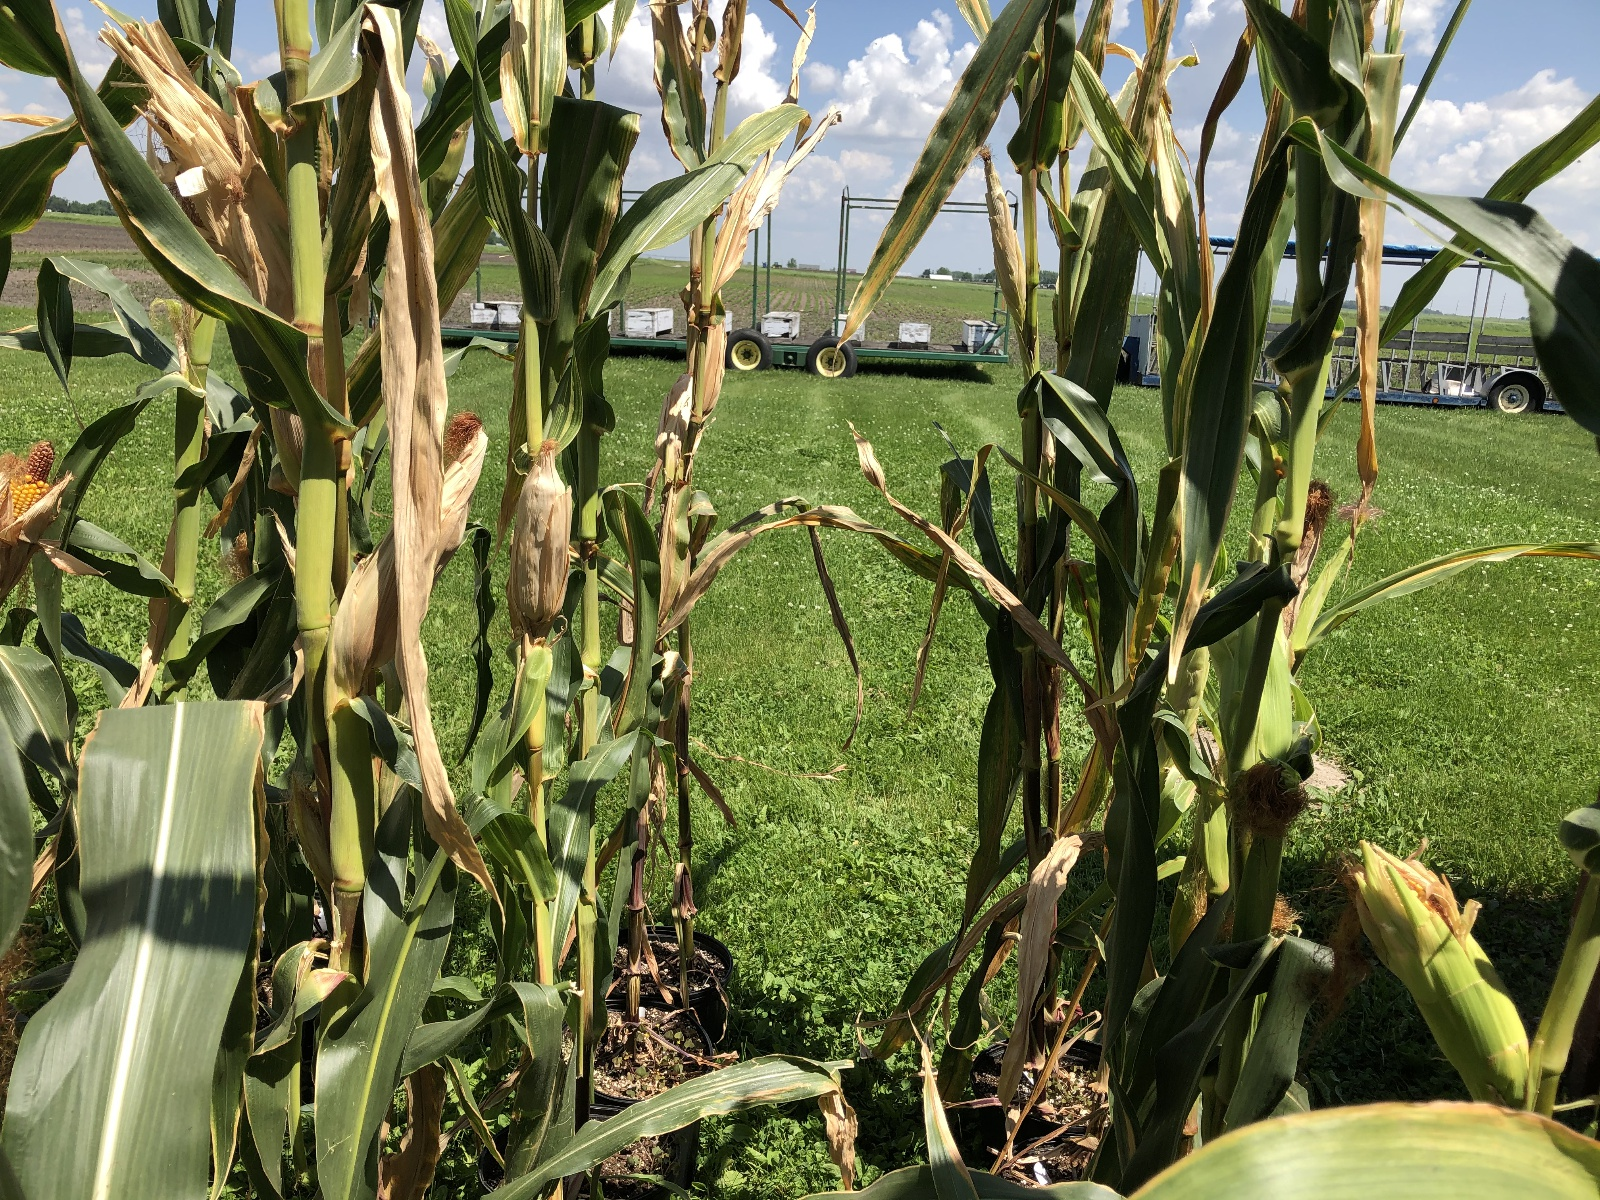ear: (1335, 836, 1537, 1094), (329, 405, 493, 676), (505, 429, 580, 628), (973, 144, 1036, 328), (1, 429, 60, 551)
